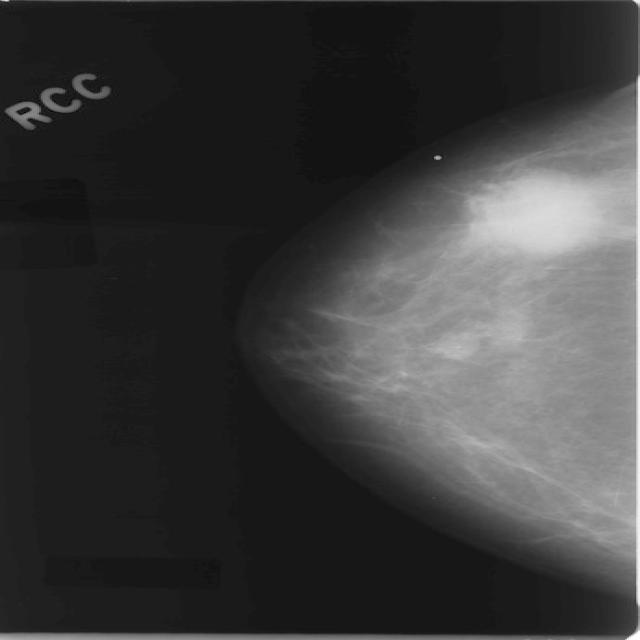tumour: (460, 171, 599, 254)
